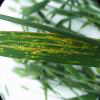Corn rust leaf: (0, 30, 99, 70)
